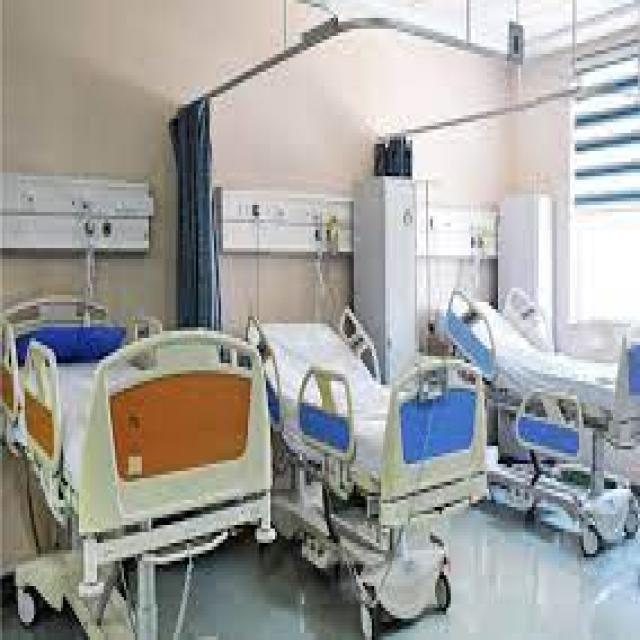bed: (10, 298, 254, 527), (258, 306, 477, 560), (442, 271, 634, 504)
